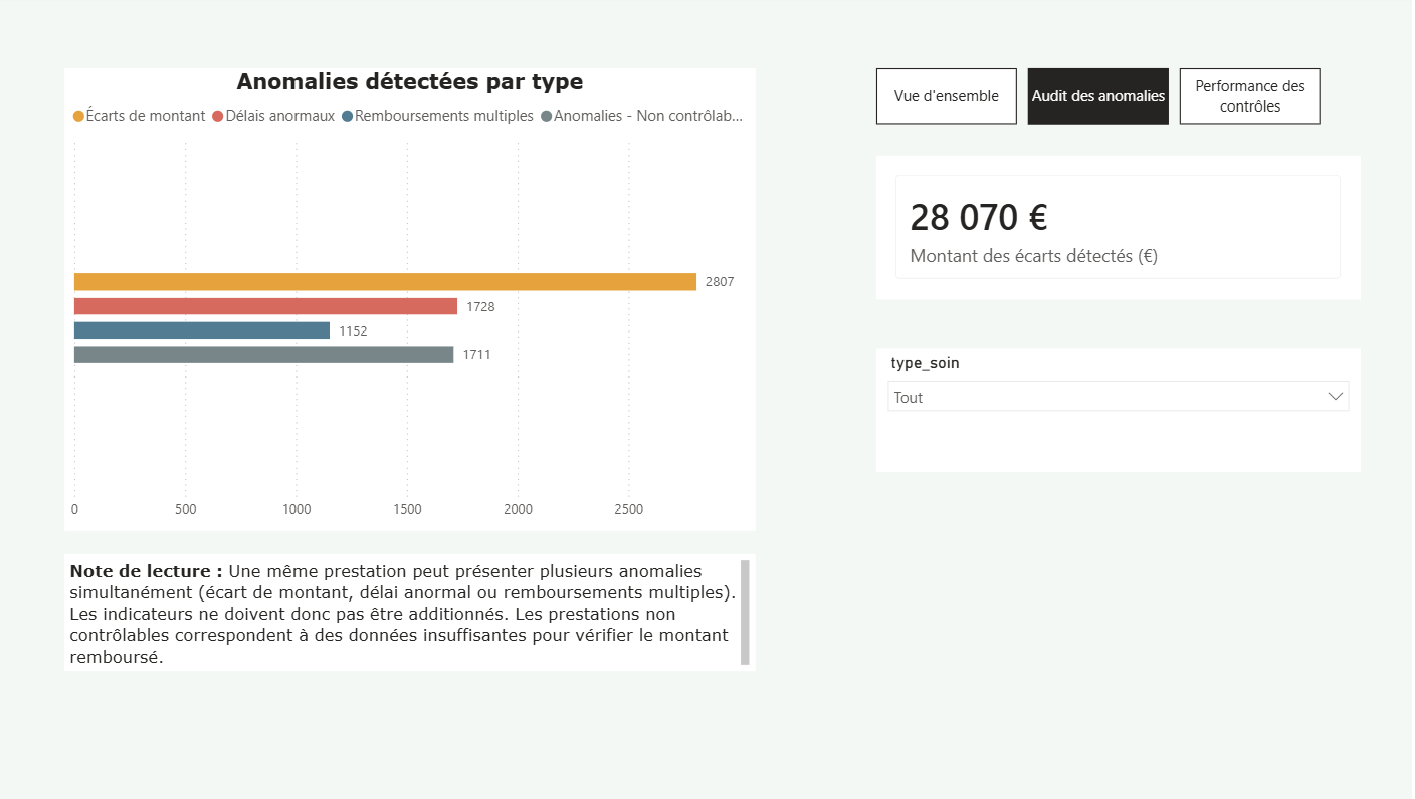

Layout of this report page (visuals, bound fields, positions):
{"tool":"powerbi","page":{"name":"Audit des anomalies","canvas":[1280,720],"ordinal":1},"visuals":[{"type":"clusteredBarChart","title":"Anomalies détectées par type","fields":{"Y":["rapprochement.Anomalies - Écarts de montant","rapprochement.Anomalies - Délais anormaux","rapprochement.Anomalies - Remboursements multiples","rapprochement.Anomalies - Non contrôlables"]},"box":[67.1,62.8,618.4,407.7],"z":0},{"type":"textbox","box":[67.1,491.8,618.4,103.3],"z":1000},{"type":"slicer","fields":{"Values":["rapprochement.type_soin"]},"box":[793.6,309.9,433.9,108.5],"z":2000},{"type":"pageNavigator","box":[794.1,62.8,400.2,50],"z":3000},{"type":"cardVisual","fields":{"Data":["rapprochement.Montant des écarts détectés (€)"]},"box":[793.6,140.6,433.9,126.2],"z":4000}]}

Visuals, with their boxes in screenshot pixels (x1, y1, x2, y2), scaled from the page's 1280x720 canvas onto the 1415x799 screenshot:
"Anomalies détectées par type" clusteredBarChart: l=74, t=70, r=758, b=522
textbox: l=74, t=546, r=758, b=660
slicer - rapprochement.type_soin: l=877, t=344, r=1357, b=464
pageNavigator: l=878, t=70, r=1320, b=125
cardVisual - rapprochement.Montant des écarts détectés (€): l=877, t=156, r=1357, b=296
